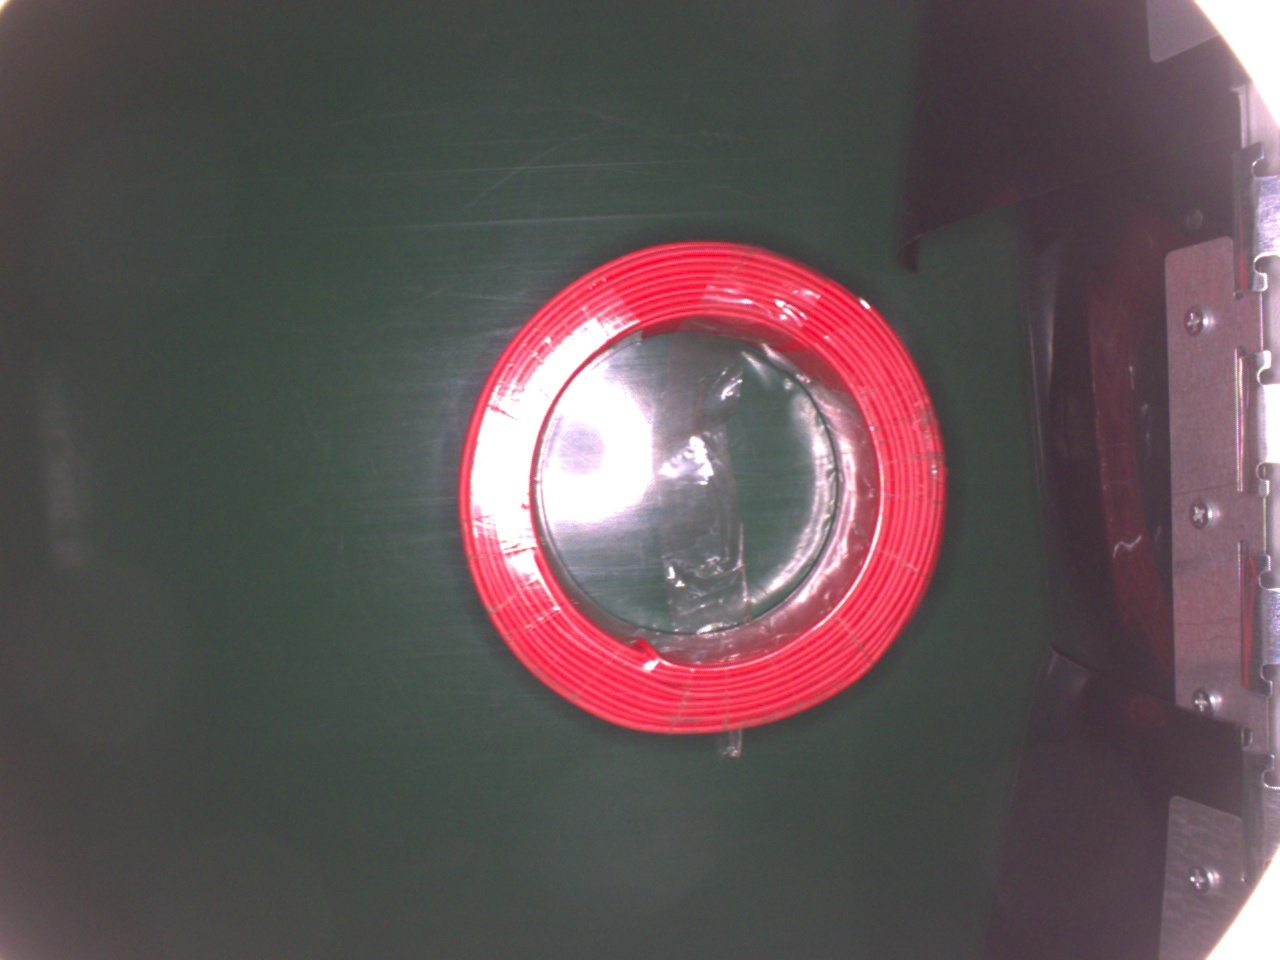red: (455, 234, 946, 732)
